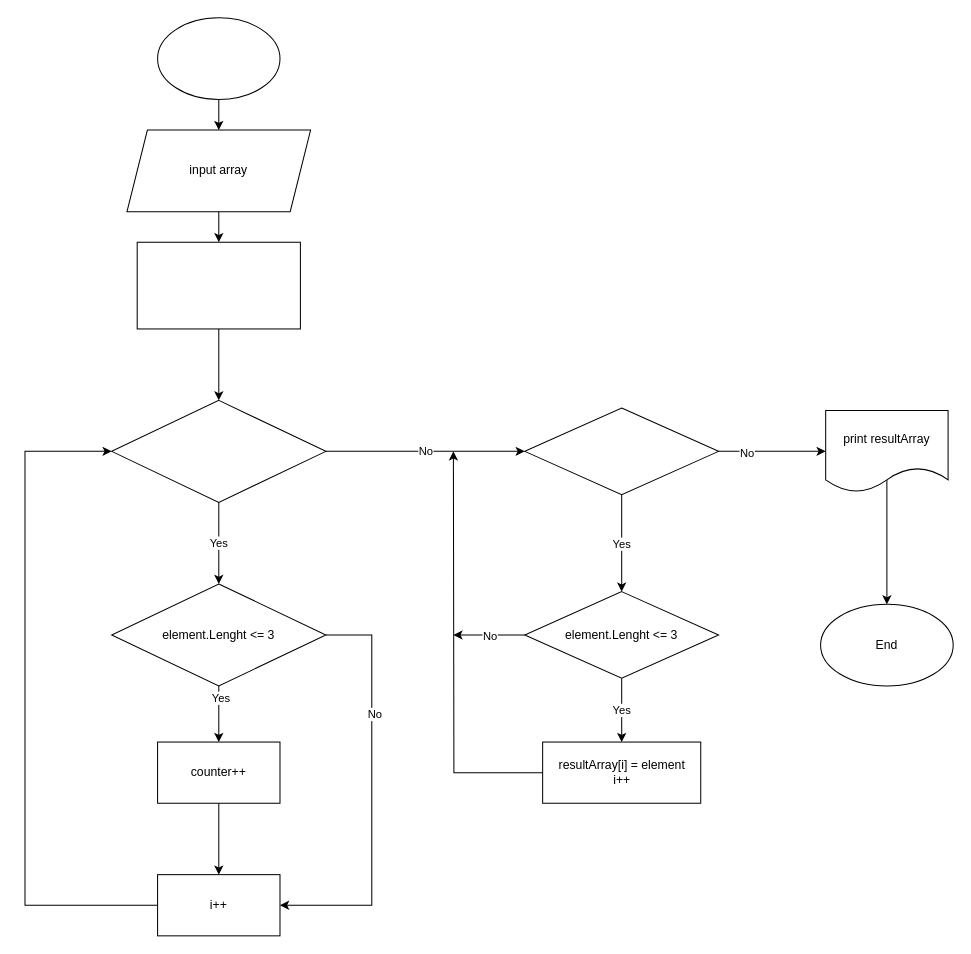
The diagram is 971 pixels wide and 954 high, and some of its shapes have lost their labels. The shapes that lost their labels are listed below. From the top down, each one's box as (x1, y1, x2, y2) in pixels, then its label:
(157, 17, 280, 99): Start
(136, 241, 300, 329): i = 0 counter = 0
(111, 399, 326, 502): i < workArray.Lenth
(524, 407, 719, 495): i < resultArray.lenght
